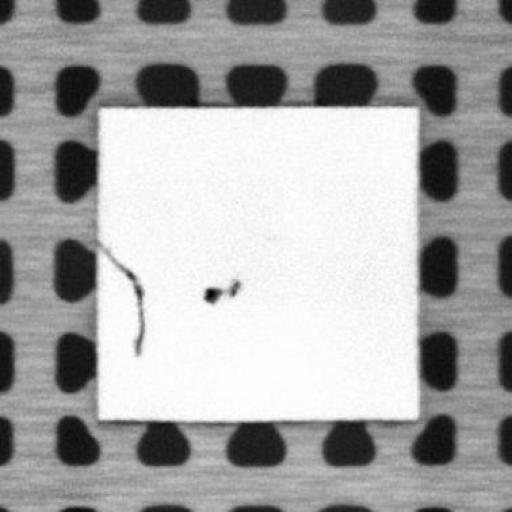DIE_INK: (102, 240, 145, 357), (202, 275, 241, 303)
